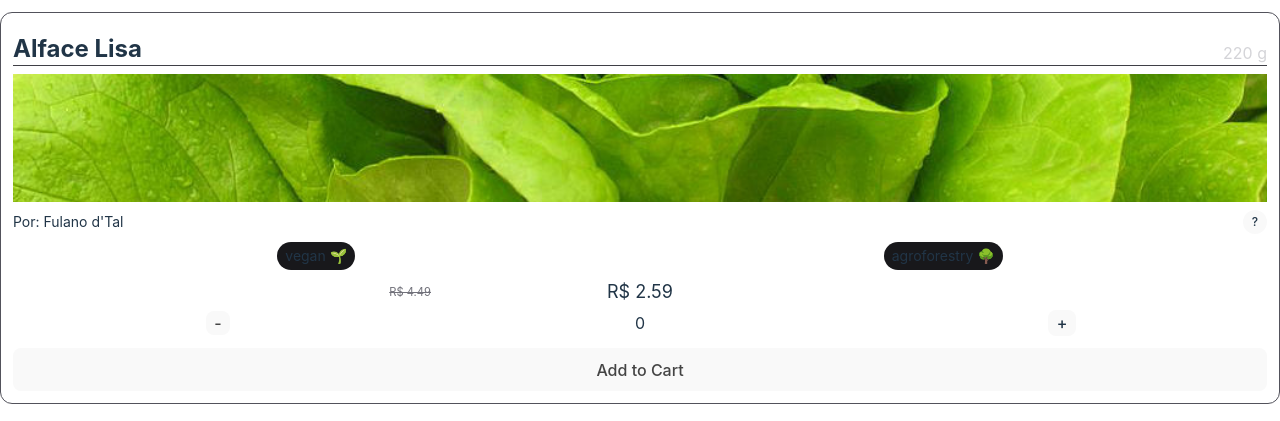
Test: <ProductCard/> › should start with 0 selected quantity and increase or decrease when buttons are clicked
This screenshot has width=1280, height=421.
expect the text "0" is shown: met, box x1=635 y1=313 x2=645 y2=333
What coordinates should you click on to do the following:
click the button "+"
I would click on:
 (1062, 323)
Its box is x1=1048 y1=310 x2=1076 y2=336.
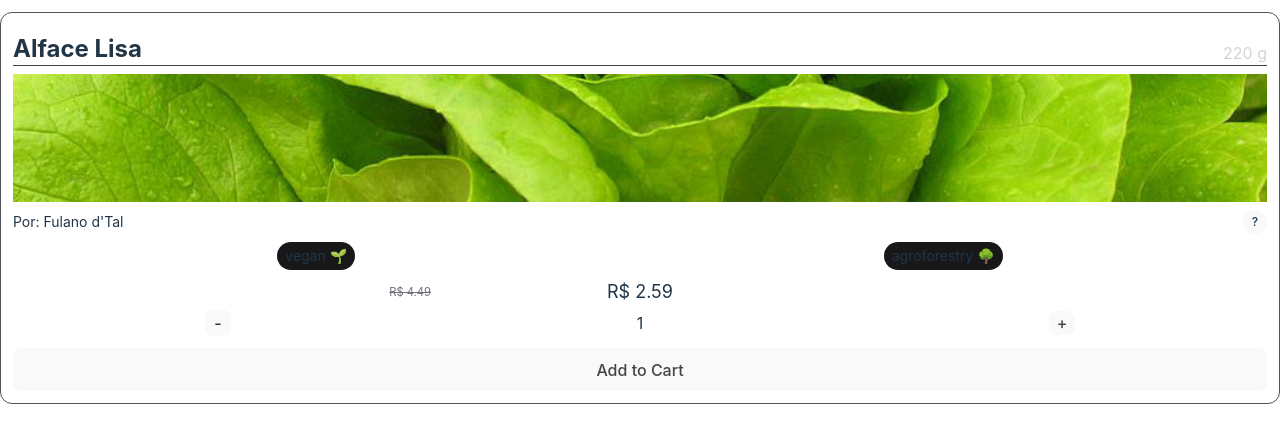
expect the text "0" reads "1": met, box x1=637 y1=313 x2=643 y2=333
What coordinates should you click on to do the following:
click the button "-"
I would click on:
 (218, 323)
Its box is x1=205 y1=310 x2=231 y2=336.
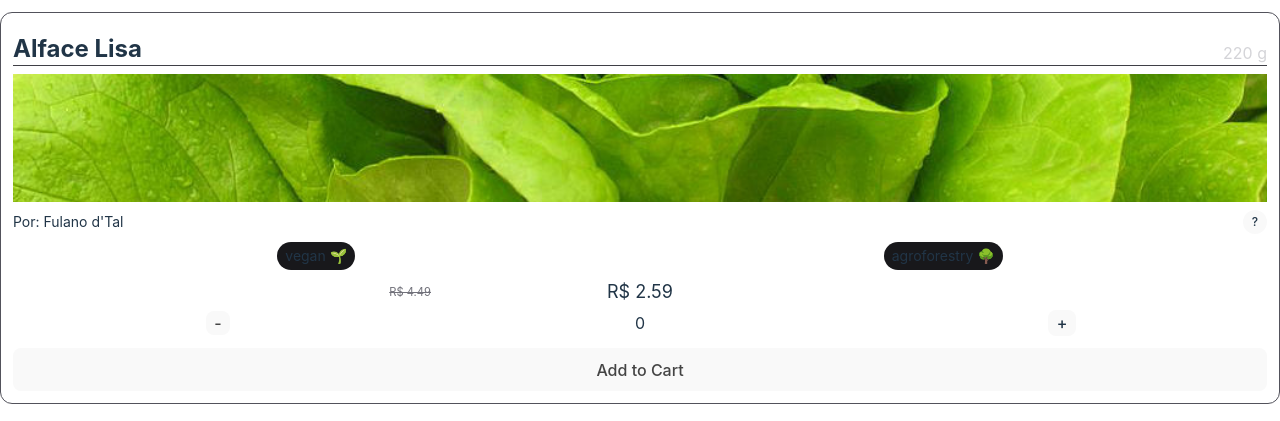
expect the text "0" is shown: met, box x1=635 y1=313 x2=645 y2=333
